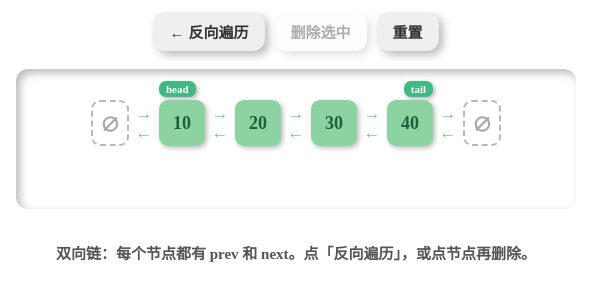
Test: DlinkViz 双向链表互动 › TC-VIZ-DLINKVIZ-05 删除选中（选1）：dnode→3、status 含「O(1)」「prev」
The width and height of the screenshot is (593, 300).
Click the button "20" at (258, 123), box [235, 100, 281, 146]
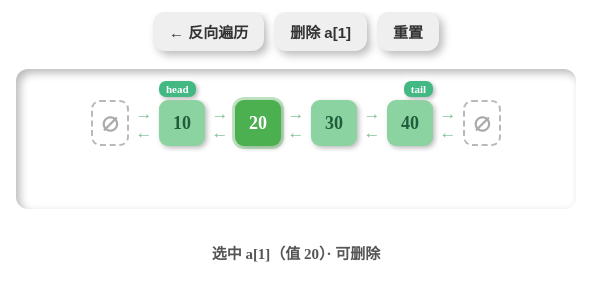
Click the button "删除 a[1]" at (321, 32), box [274, 12, 367, 51]
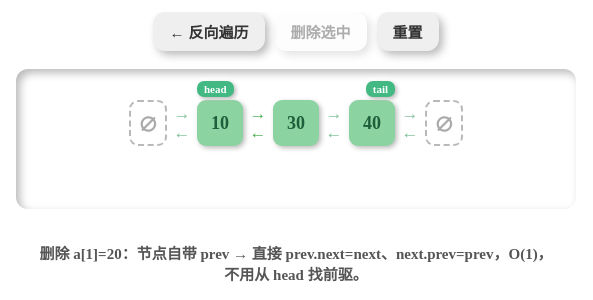
Expected: the number of elements with class "dnode" is 3, [197, 100, 273, 146]; [273, 100, 349, 146]; [349, 100, 425, 146]
Expected: the message with class "status" shows "O(1)", [39, 246, 553, 283]
Expected: the message with class "status" shows "prev", [39, 246, 553, 283]
